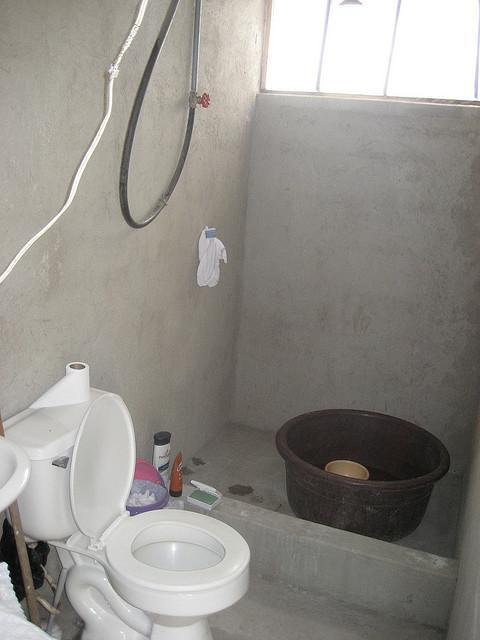Lavamanos: (0, 426, 33, 520)
